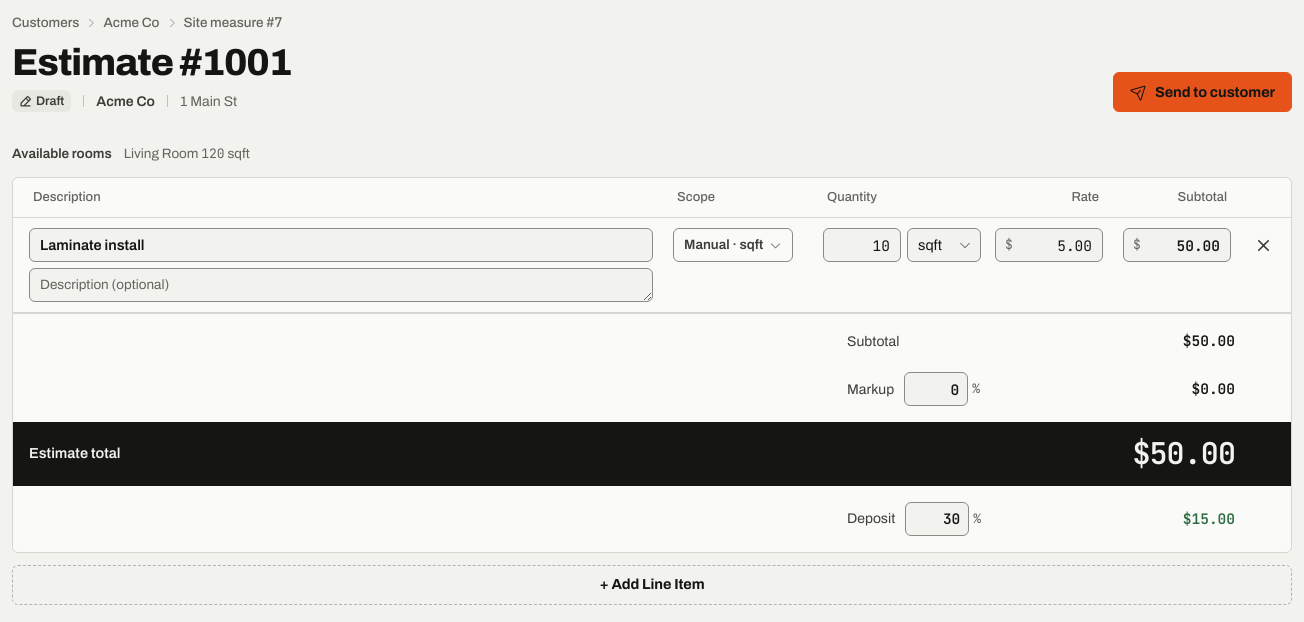
Test case: EstimateBuilderView — edit line item › commits a rate change and forwards the updated lineItems patch
The image size is (1304, 622).
Replace the text in the 3rd field showing "5.00" with "8" at point(1049, 245), box [995,228,1103,262]
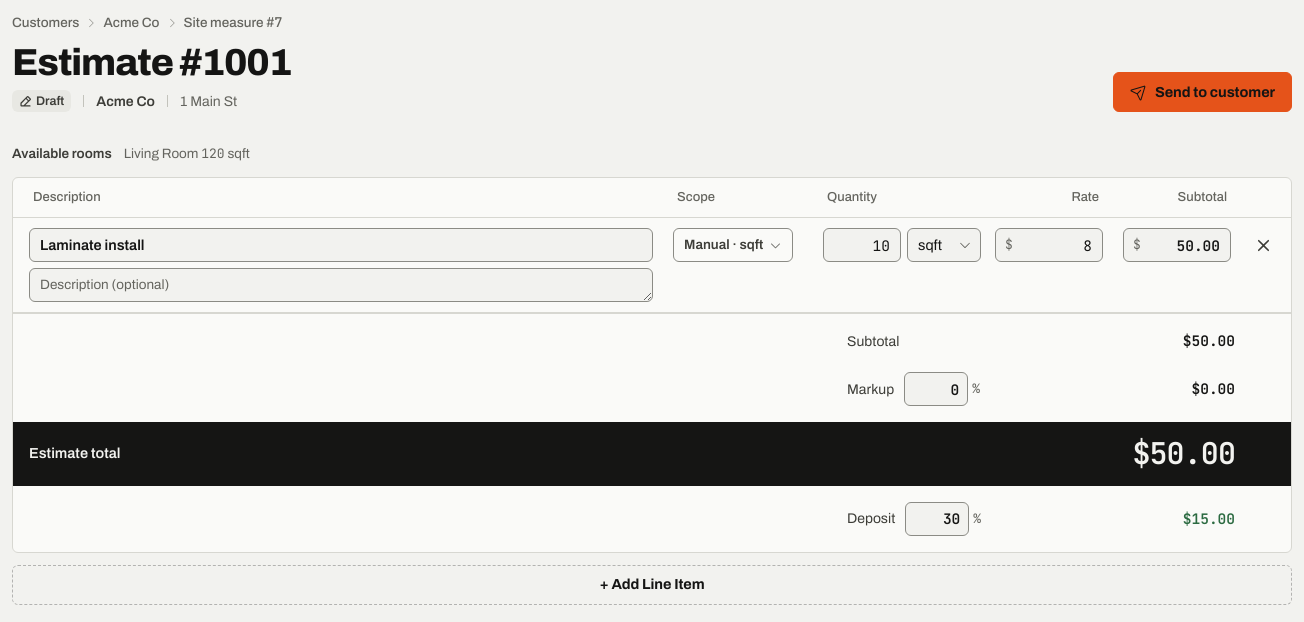
Leave the 3rd field showing "5.00", box [995,228,1103,262]
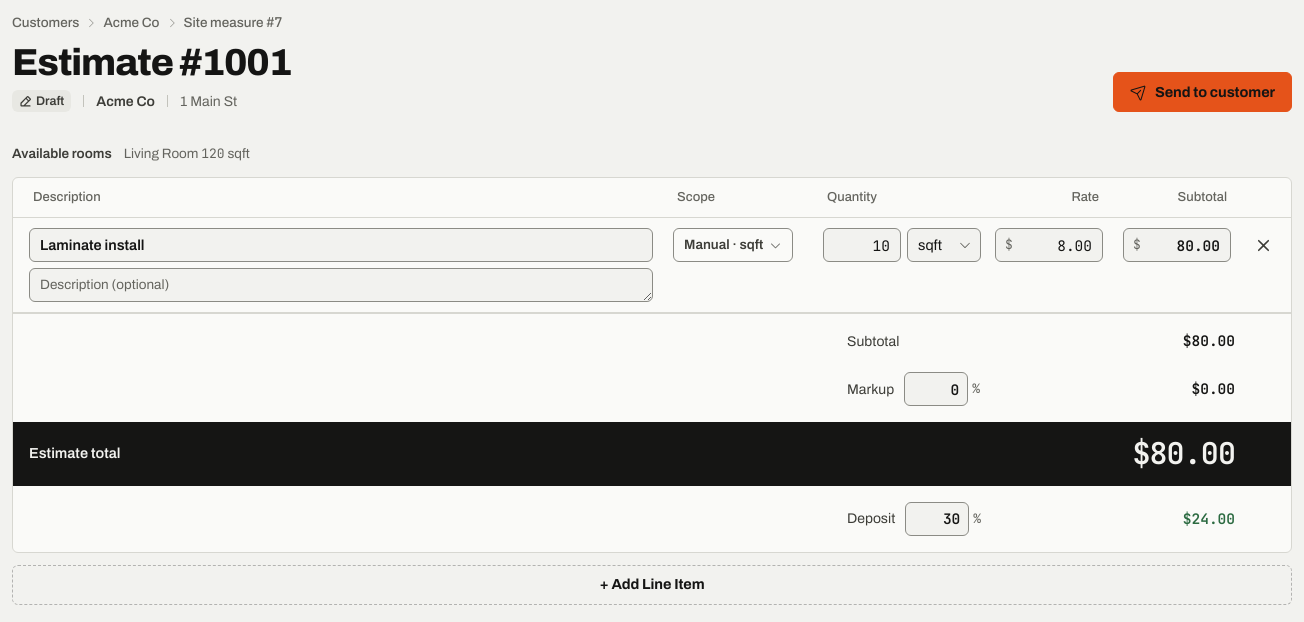
Check: the 1st text "$80.00" is shown, box [1183,330,1235,352]
